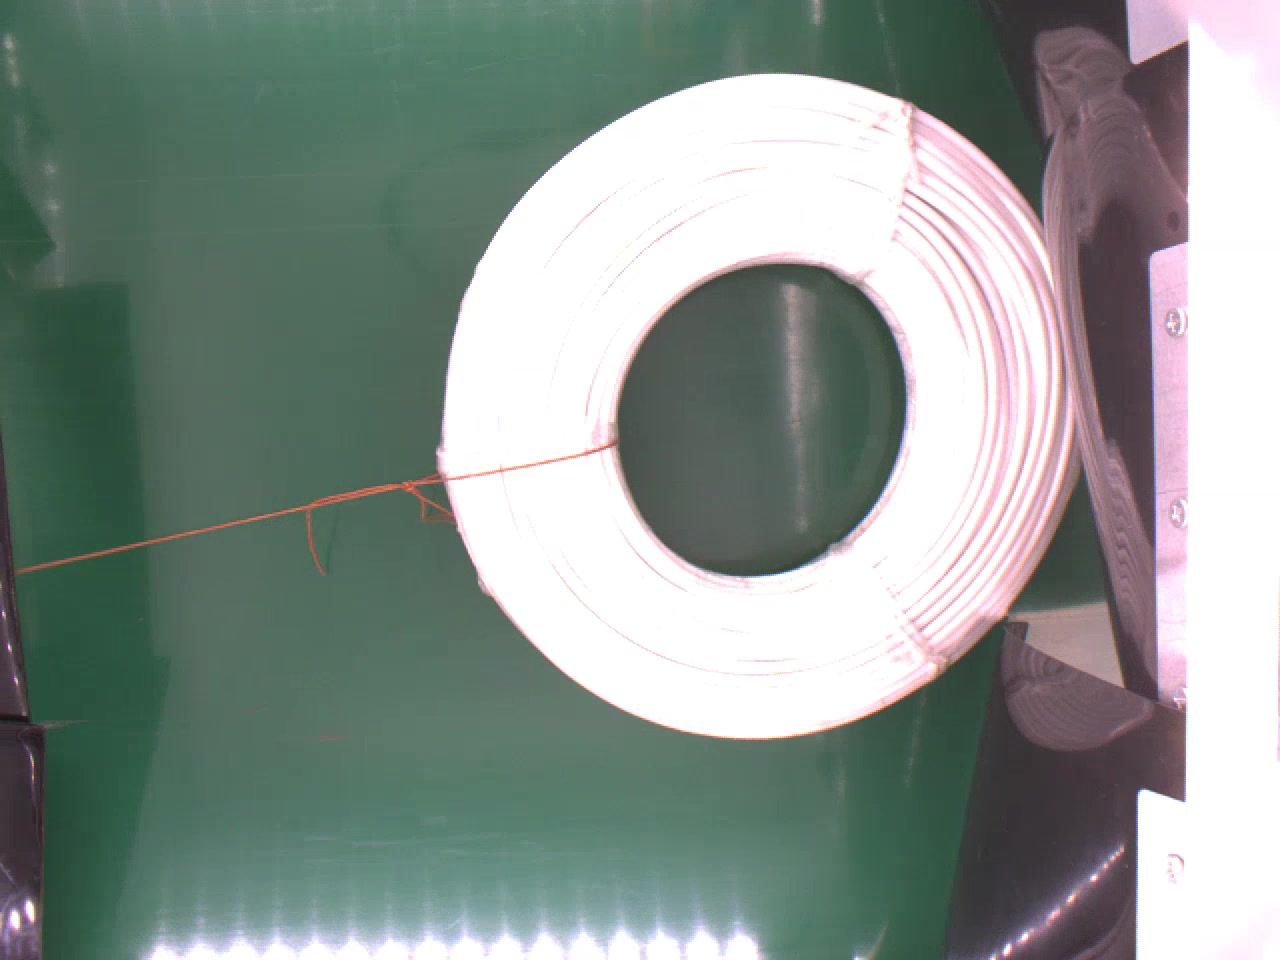white: (433, 64, 1090, 744)
